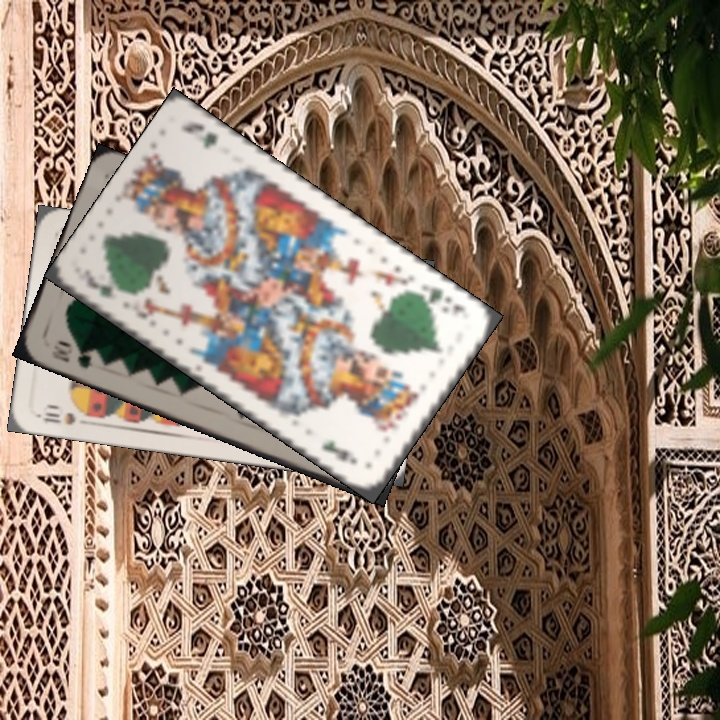G10: (47, 336, 96, 371)
GK: (414, 283, 470, 316), (89, 280, 129, 302)
S10: (34, 405, 94, 427)
